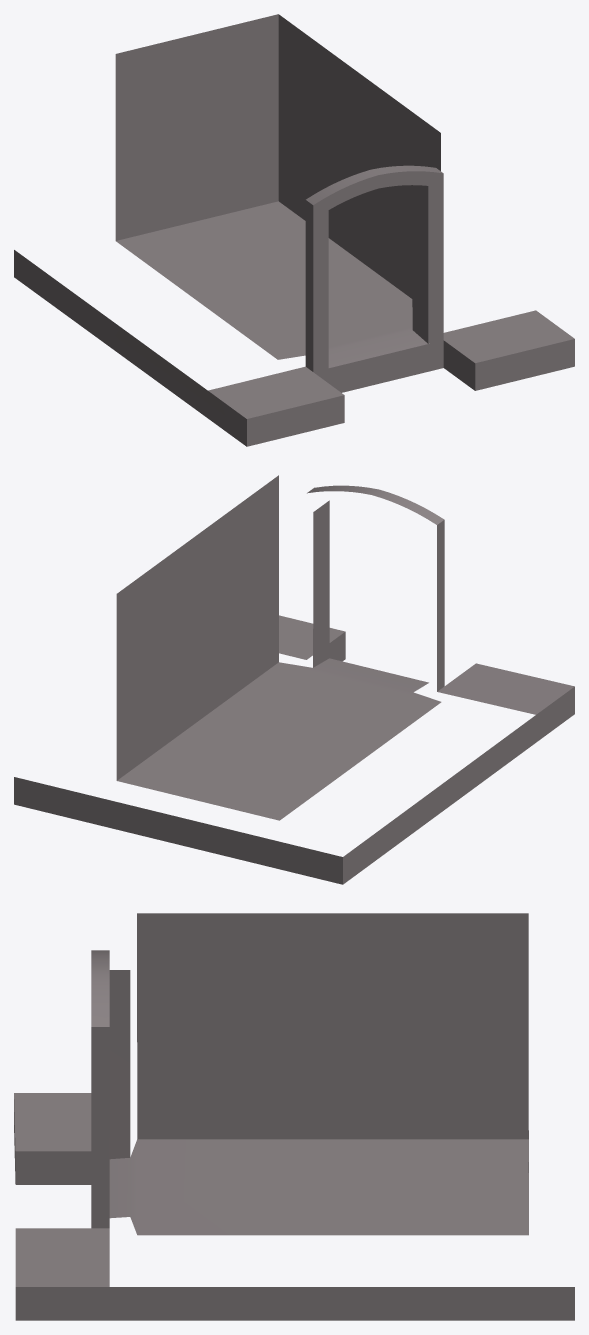
File: material3.022_lev3.glb
3 views of the same model, one above another, from view 1: azimuth 30°, elevation 25°; view 2: azimuth 150°, elevation 25°; view 3: azimuth 270°, elevation 25° (orthographic). The views are drawn at different scales.
Parts seen in each view (by area): view 1: material3.022_lev3; view 2: material3.022_lev3; view 3: material3.022_lev3.
Boxes of the visible parts, x1,y1,x2,y2 form: material3.022_lev3: (14,14,574,446); material3.022_lev3: (14,475,574,884); material3.022_lev3: (14,913,574,1320).
Size of the model in its own units: 0.5214 by 0.3288 by 0.638.
Materials: 1 (1 with a texture image).
